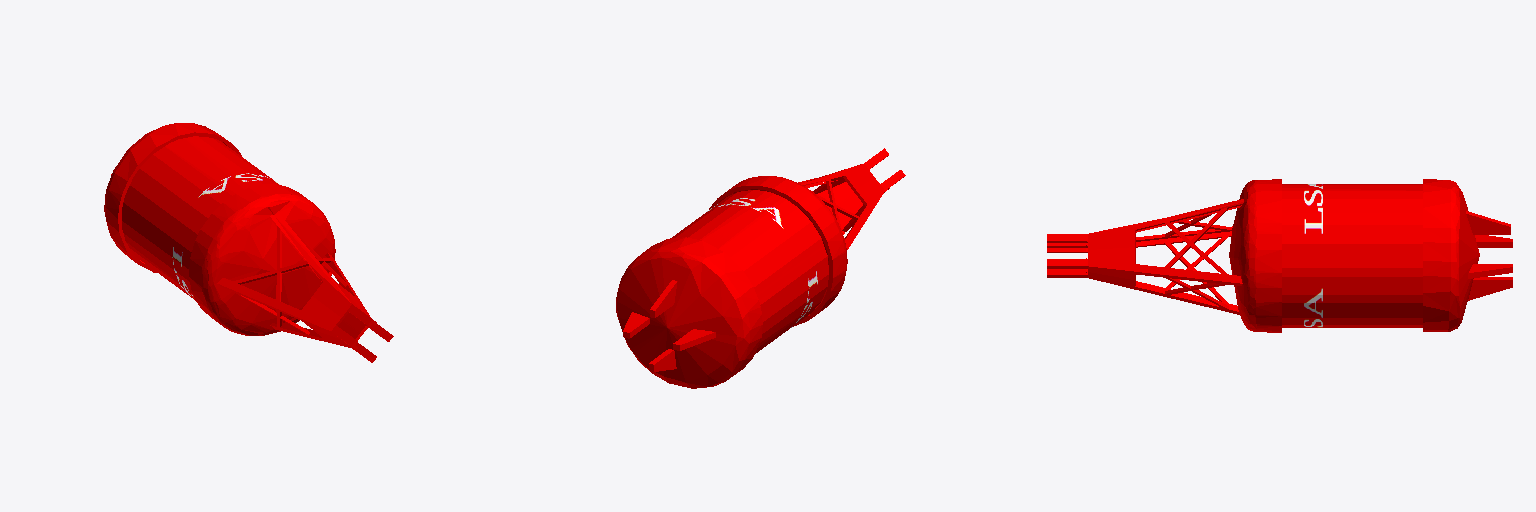
3 renders of one model, left to right at view 1: azimuth 30°, elevation 25°; view 2: azimuth 150°, elevation 25°; view 3: azimuth 270°, elevation 25°, orthographic.
Parts seen in each view (by area): view 1: Buoy; view 2: Buoy; view 3: Buoy.
Part boxes in pixels (x1,y1,x2,y2): Buoy: (104, 123, 393, 362); Buoy: (616, 148, 905, 388); Buoy: (1047, 179, 1512, 332).
Size of the model in its own units: 1.52 by 1.51 by 4.62.
1 materials, 1 textured.